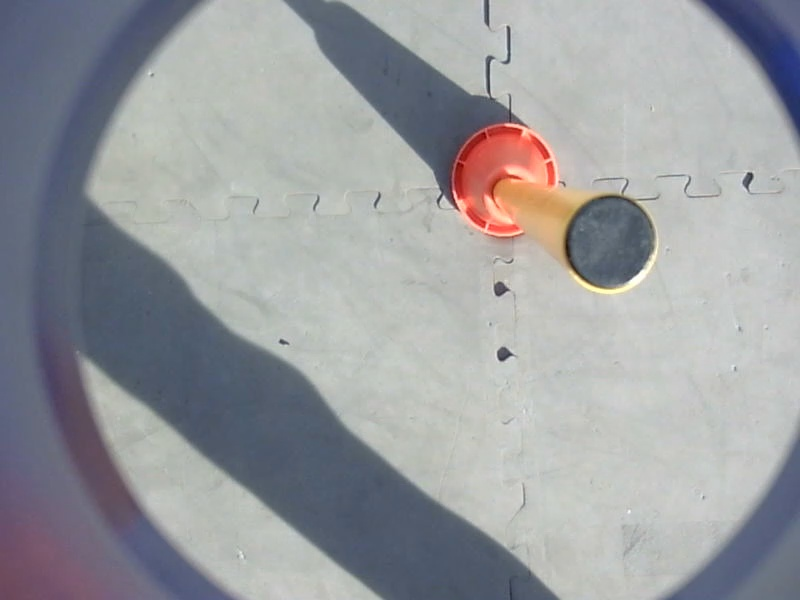tip: (555, 184, 666, 299)
